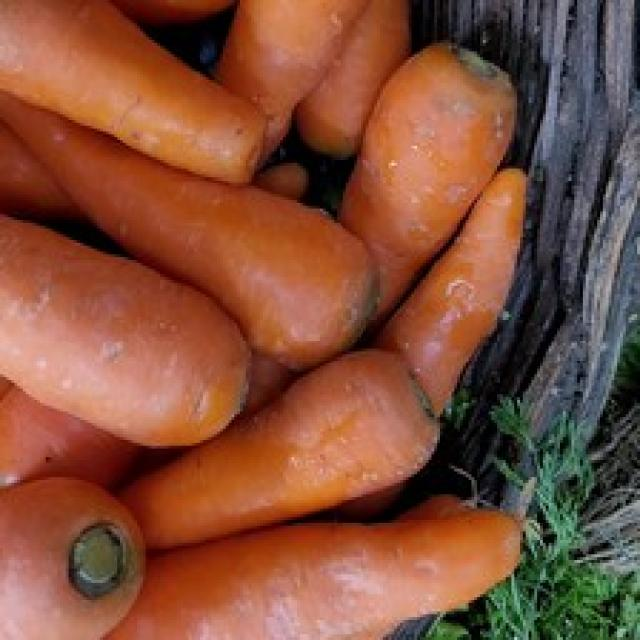Fresh_Carrot: (1, 200, 242, 442), (2, 0, 270, 169)
